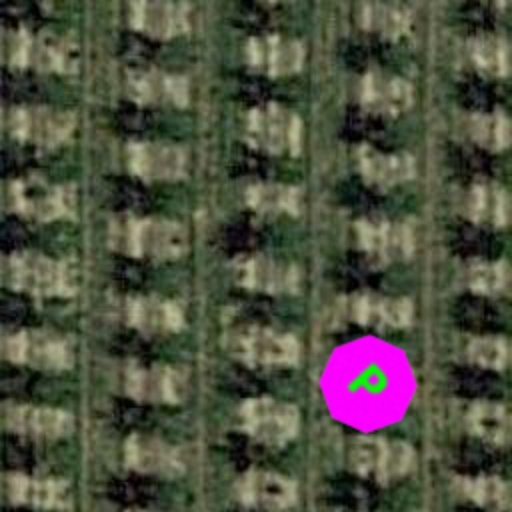octagon: (298, 314, 438, 454)
